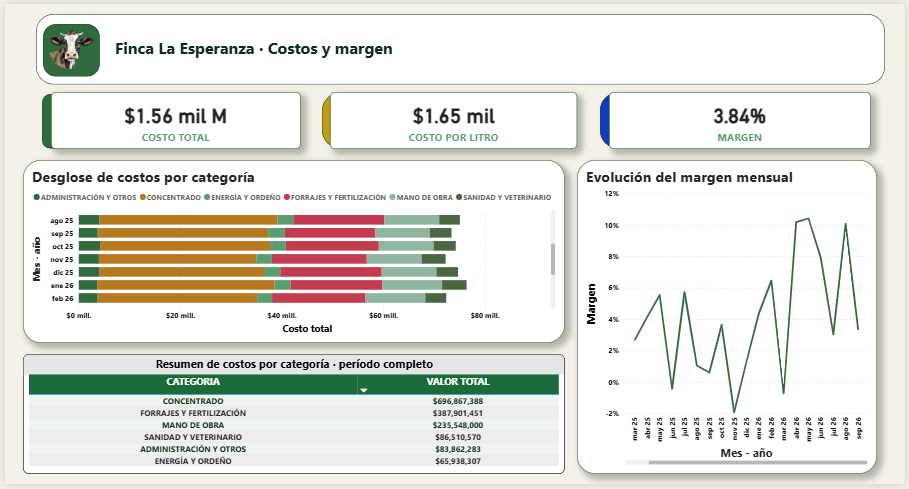

The dashboard page shown, as its layout file describes it:
{"tool":"powerbi","page":{"name":"Costos y margen","canvas":[1500,800],"ordinal":2},"visuals":[{"type":"group","id":"g1","title":"Grupo 1","box":[62,146,1380,96],"z":0},{"type":"shape","box":[62,149,56.5,91.4],"z":0,"group":"g1"},{"type":"shape","box":[51.4,16,1415,117.5],"z":1000,"group":"g2"},{"type":"shape","box":[528,148.5,58.2,91.9],"z":1000,"group":"g1"},{"type":"barChart","title":"Desglose de costos por categoría","fields":{"Category":["dim_fecha.Mes Corto"],"Y":["Sum(costos.valor_cop)"],"Series":["costos.categoria"]},"box":[30,260,902.5,305],"z":1000},{"type":"textbox","box":[178,50,590,50],"z":2000,"group":"g2"},{"type":"card","fields":{"Values":["Medidas.Costo Total"]},"box":[76.3,146.7,415.7,95.3],"z":2000,"group":"g1"},{"type":"shape","box":[62.5,32.5,94.7,87.6],"z":3000,"group":"g2"},{"type":"shape","box":[992.6,148,56.1,91.4],"z":3000,"group":"g1"},{"type":"image","box":[50,32.5,121.6,89.4],"z":4000,"group":"g2"},{"type":"card","fields":{"Values":["Medidas.Costo por Litro"]},"box":[541.9,146,412.4,95.3],"z":4000,"group":"g1"},{"type":"group","id":"g2","title":"Grupo 2","box":[50,16,1416.4,117.5],"z":5000},{"type":"lineChart","title":"Evolución del margen mensual","fields":{"Category":["dim_fecha.Mes Corto"],"Y":["Medidas.Margen %"]},"box":[953.3,260,500,523.3],"z":5001},{"type":"tableEx","title":"Resumen de costos por categoría · período completo","fields":{"Values":["costos.categoria","Sum(costos.valor_cop)"]},"box":[30,582.5,902.5,200],"z":5002},{"type":"card","fields":{"Values":["Medidas.Margen %"]},"box":[1006.3,146.7,435.7,95.3],"z":6000,"group":"g1"}]}

Visuals, with their boxes in screenshot pixels (x1, y1, x2, y2), scaled from the page's 1500x800 canvas onto the 909x489 screenshot:
"Grupo 1" group: box(38, 89, 874, 148)
shape: box(38, 91, 72, 147)
shape: box(31, 10, 889, 82)
shape: box(320, 91, 355, 147)
"Desglose de costos por categoría" barChart: box(18, 159, 565, 345)
textbox: box(108, 31, 465, 61)
card - Medidas.Costo Total: box(46, 90, 298, 148)
shape: box(38, 20, 95, 73)
shape: box(602, 90, 636, 146)
image: box(30, 20, 104, 75)
card - Medidas.Costo por Litro: box(328, 89, 578, 147)
"Grupo 2" group: box(30, 10, 889, 82)
"Evolución del margen mensual" lineChart: box(578, 159, 881, 479)
"Resumen de costos por categoría · período completo" tableEx: box(18, 356, 565, 478)
card - Medidas.Margen %: box(610, 90, 874, 148)
